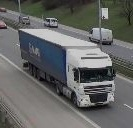car: (43, 18, 58, 27), (19, 16, 31, 24), (0, 20, 7, 29)
